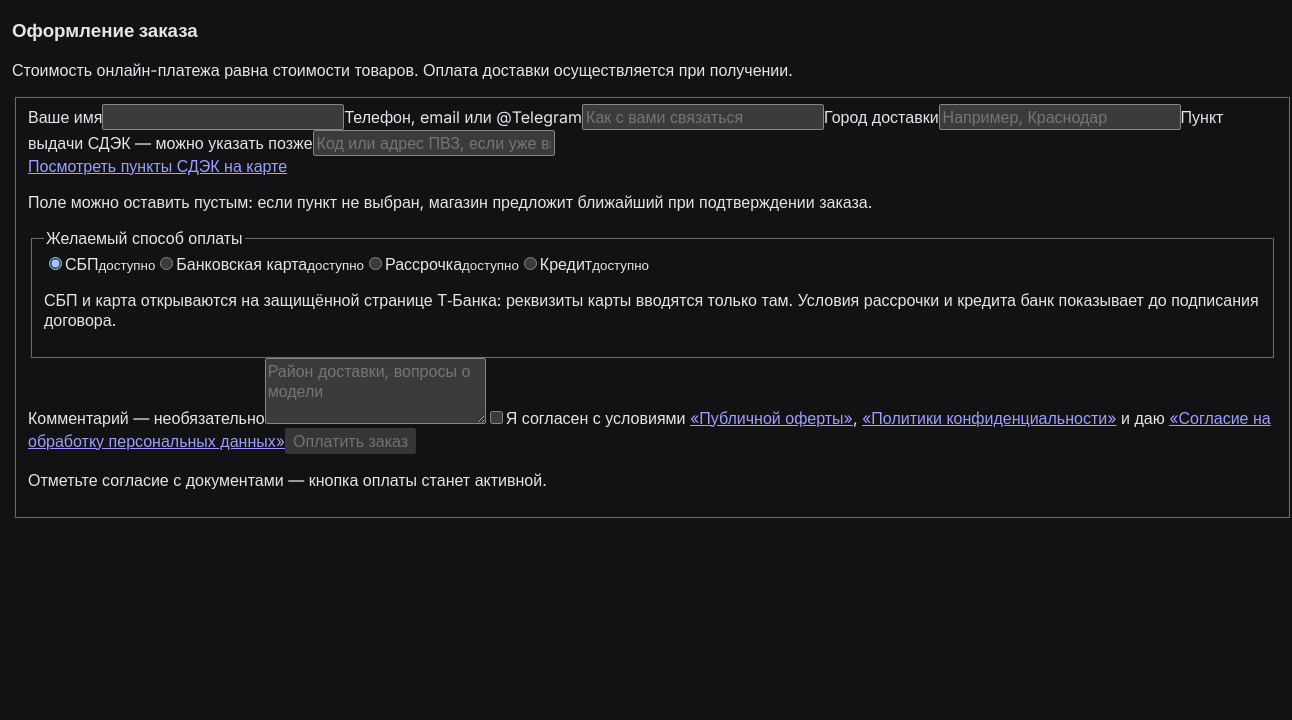
Scenario: guest inquiry › keeps the same idempotency key on a network retry and does not claim success
Type "Анна" into the field labelled "Ваше имя" at (223, 117), box [102,104,344,130]
Type "+79001234567" into the field labelled "Телефон, email или @Telegram" at (703, 117), box [582,104,824,130]
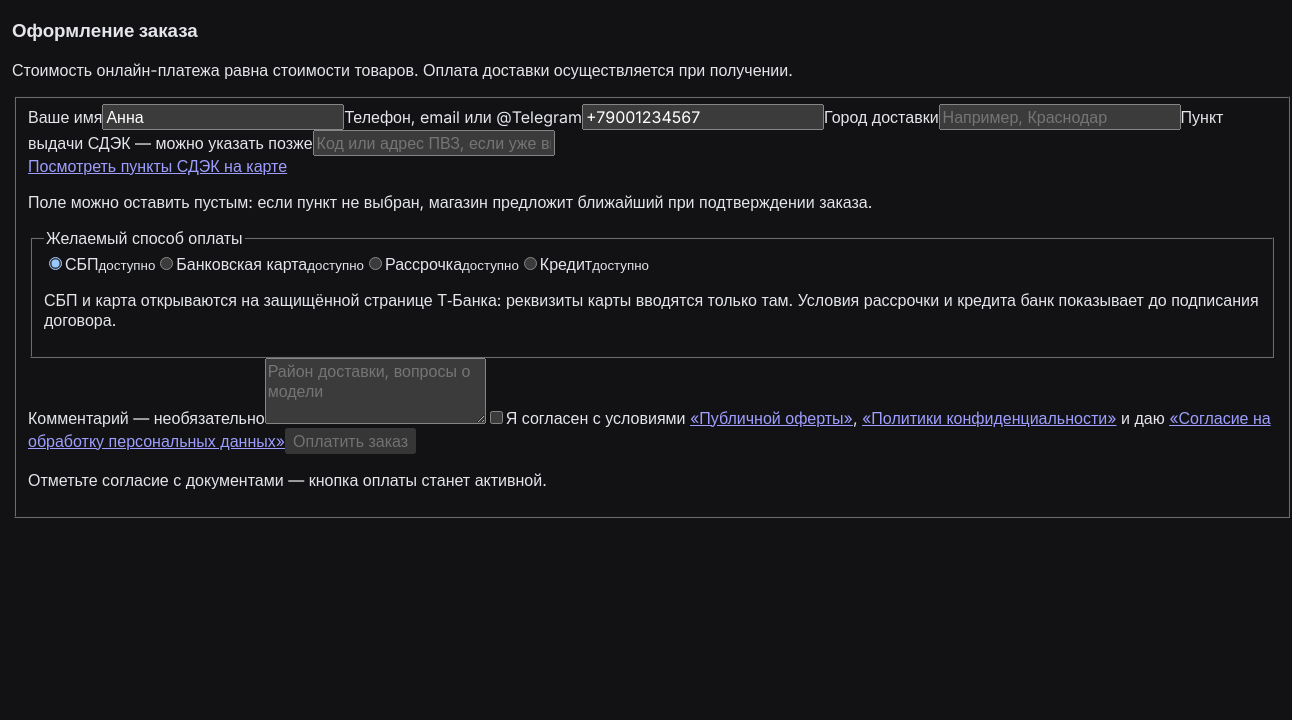
Type "Москва" into the field labelled "Город доставки" at (1060, 117), box [939,104,1181,130]
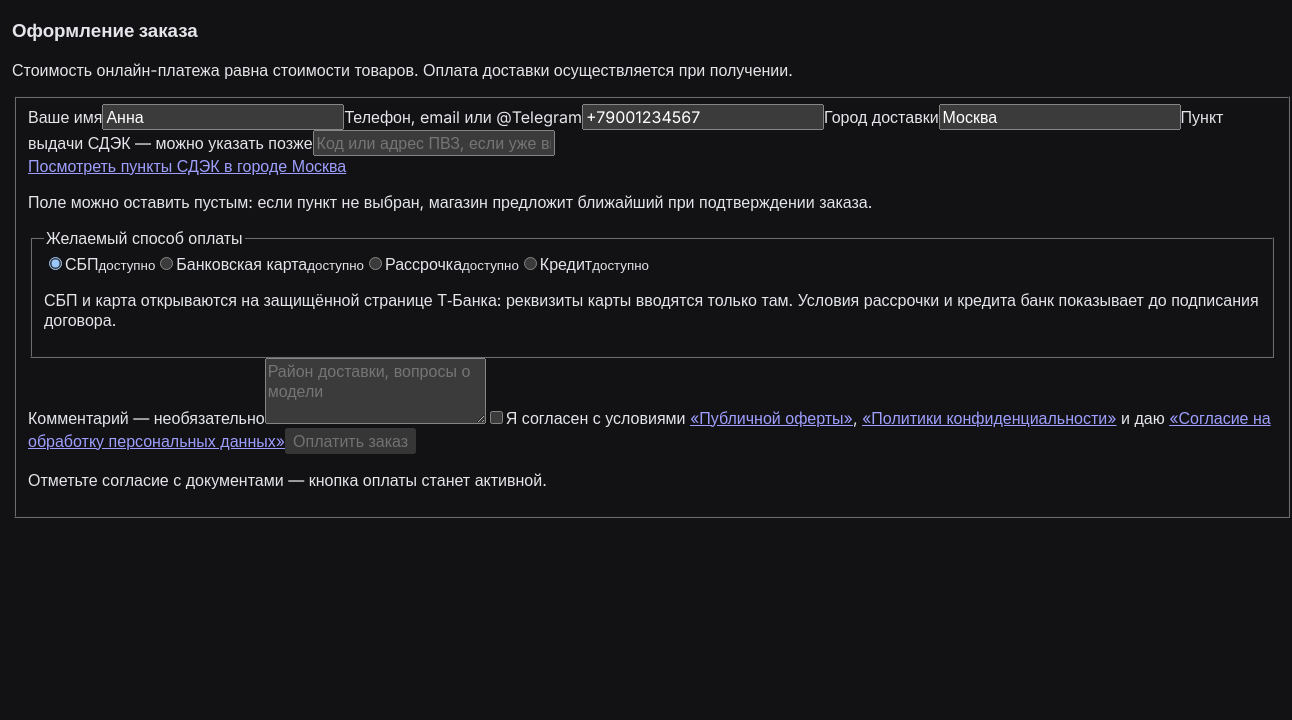
Type "MSK123, ул. Тестовая, 1" into the field labelled "Пункт выдачи СДЭК — можно указать позже" at (434, 143), box [313,130,555,156]
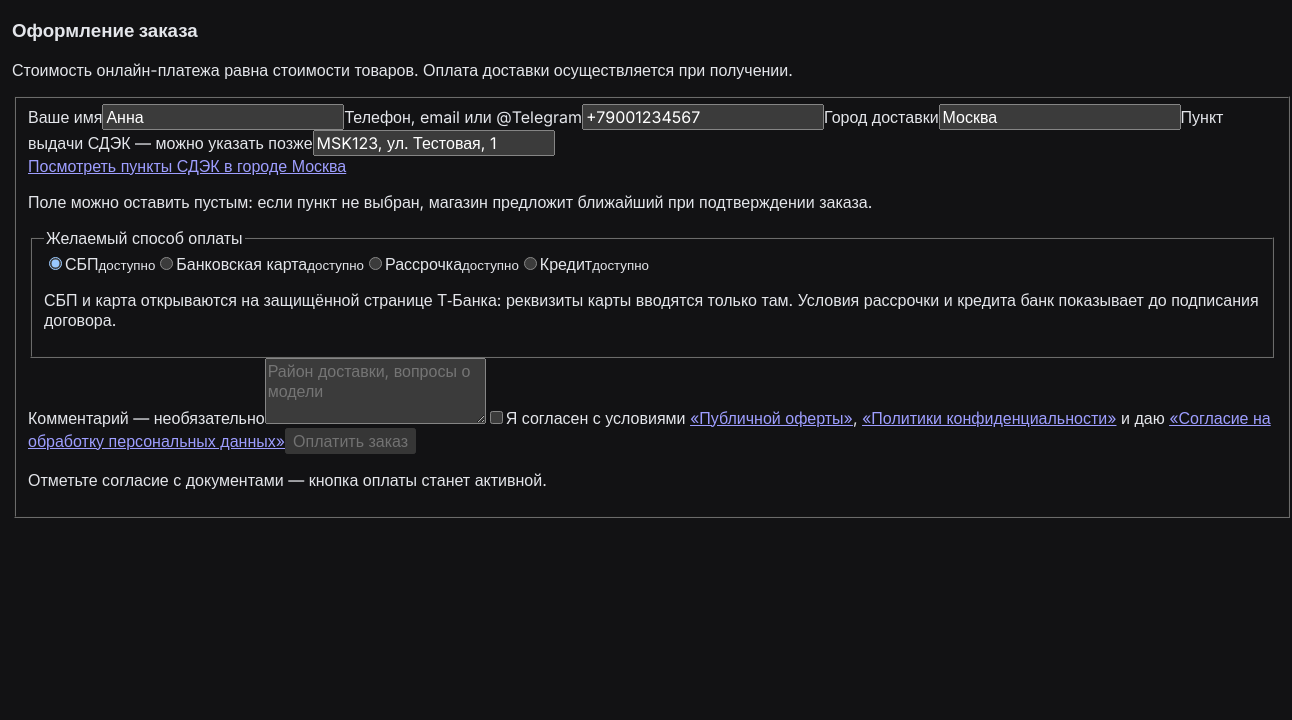
Click the checkbox at (496, 417), box [490,411,503,424]
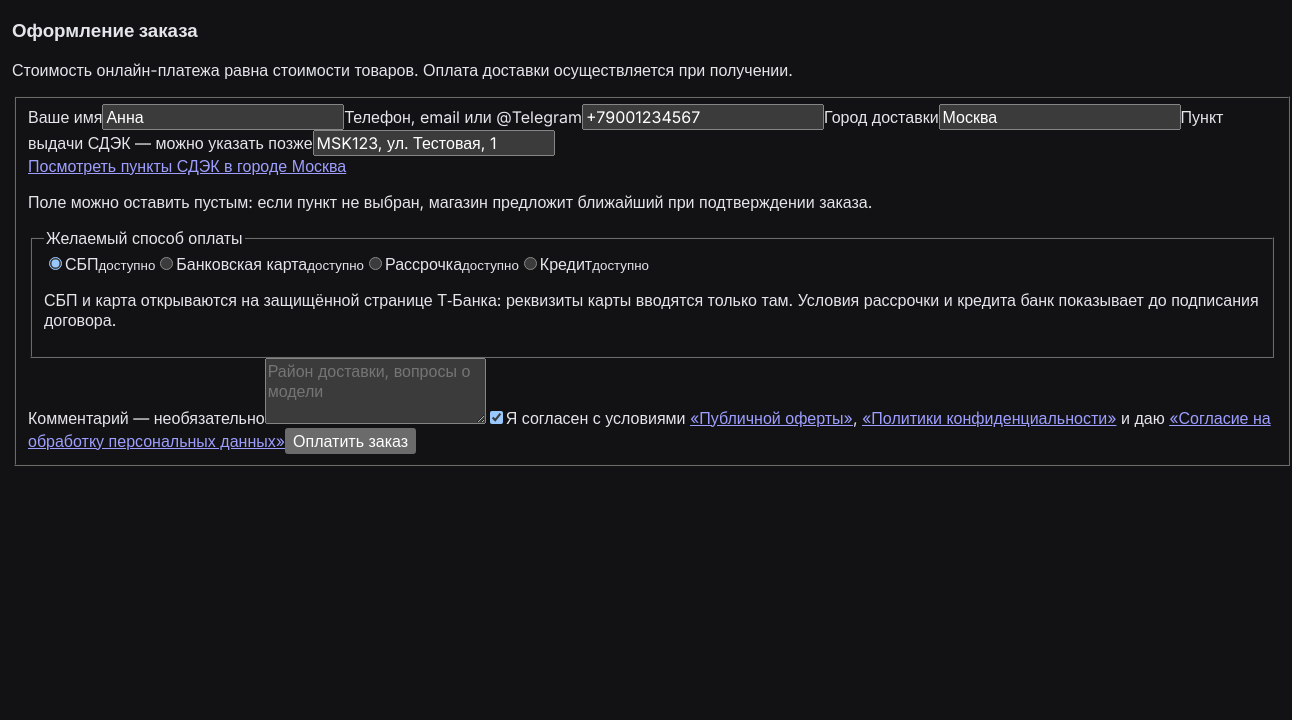
Submit the form named "Заявка в магазин"
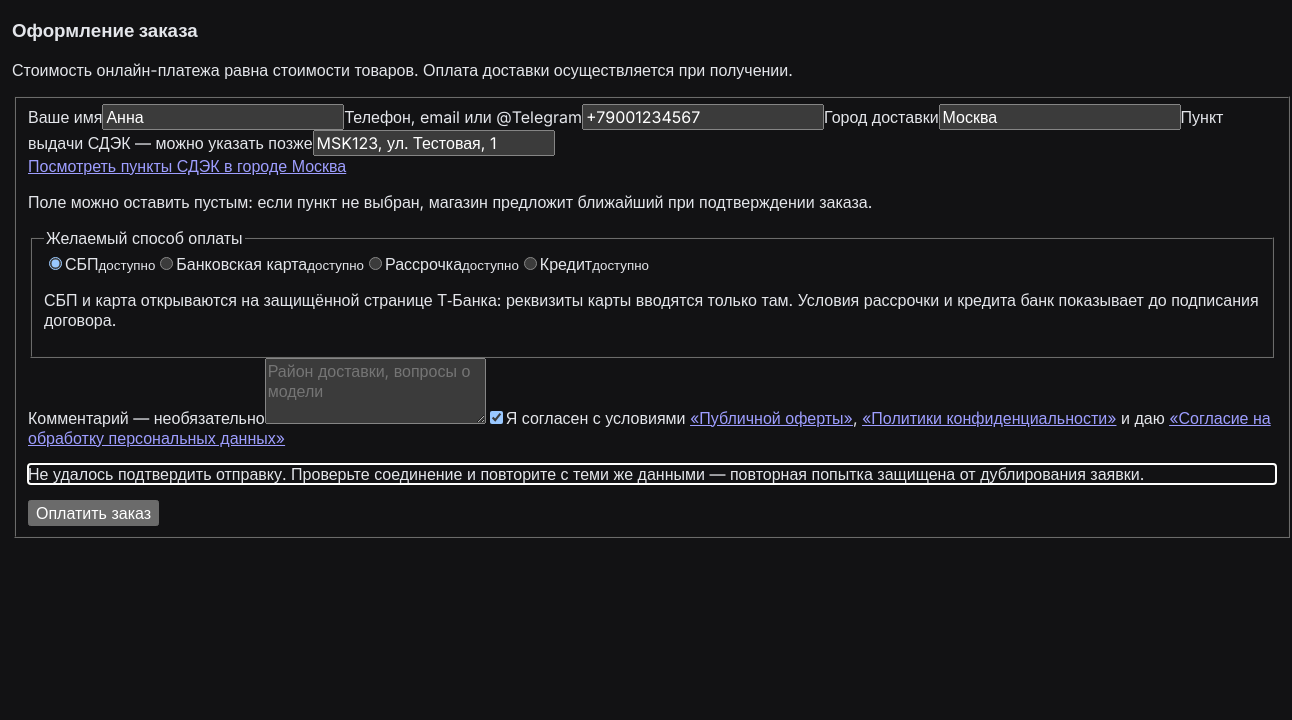
expect the text "Заявка получена" is not shown: met
expect the text "Не удалось подтвердить отправку" is shown: met, box [28,464,1144,484]
Submit the form named "Заявка в магазин"
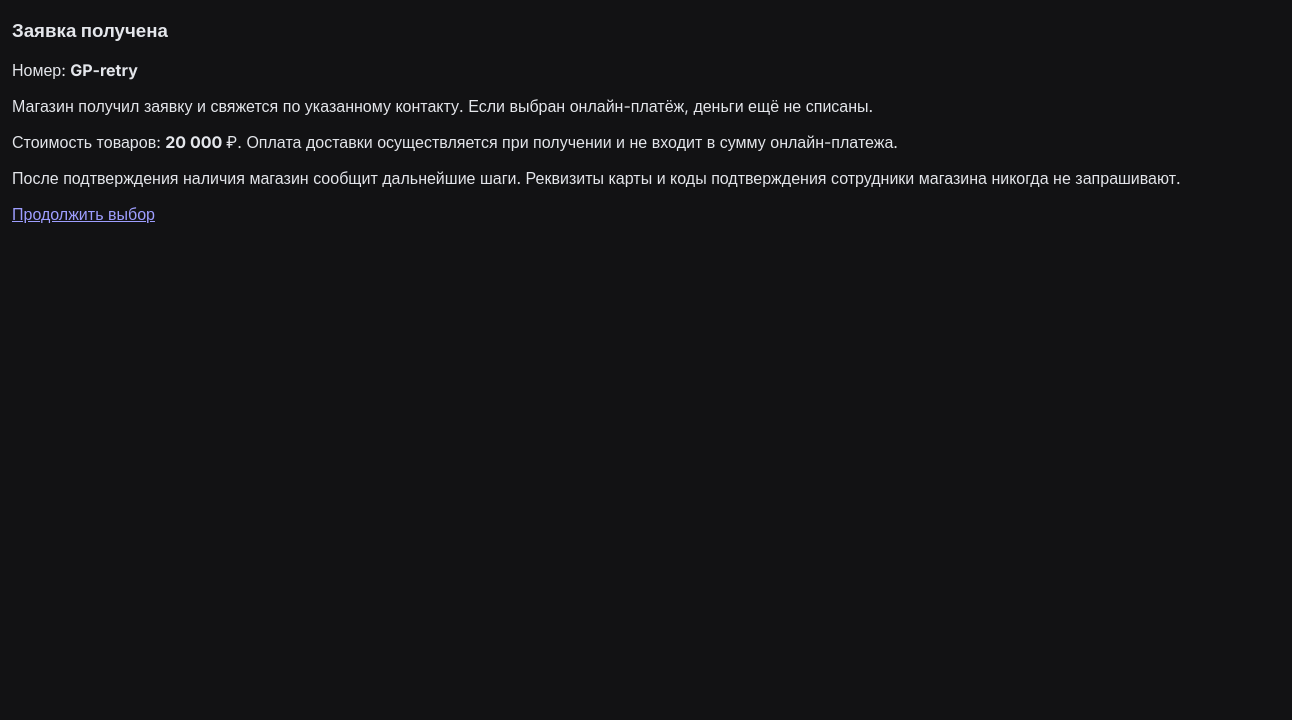
expect the text "GP-retry" is shown: met, box [70,60,138,80]
